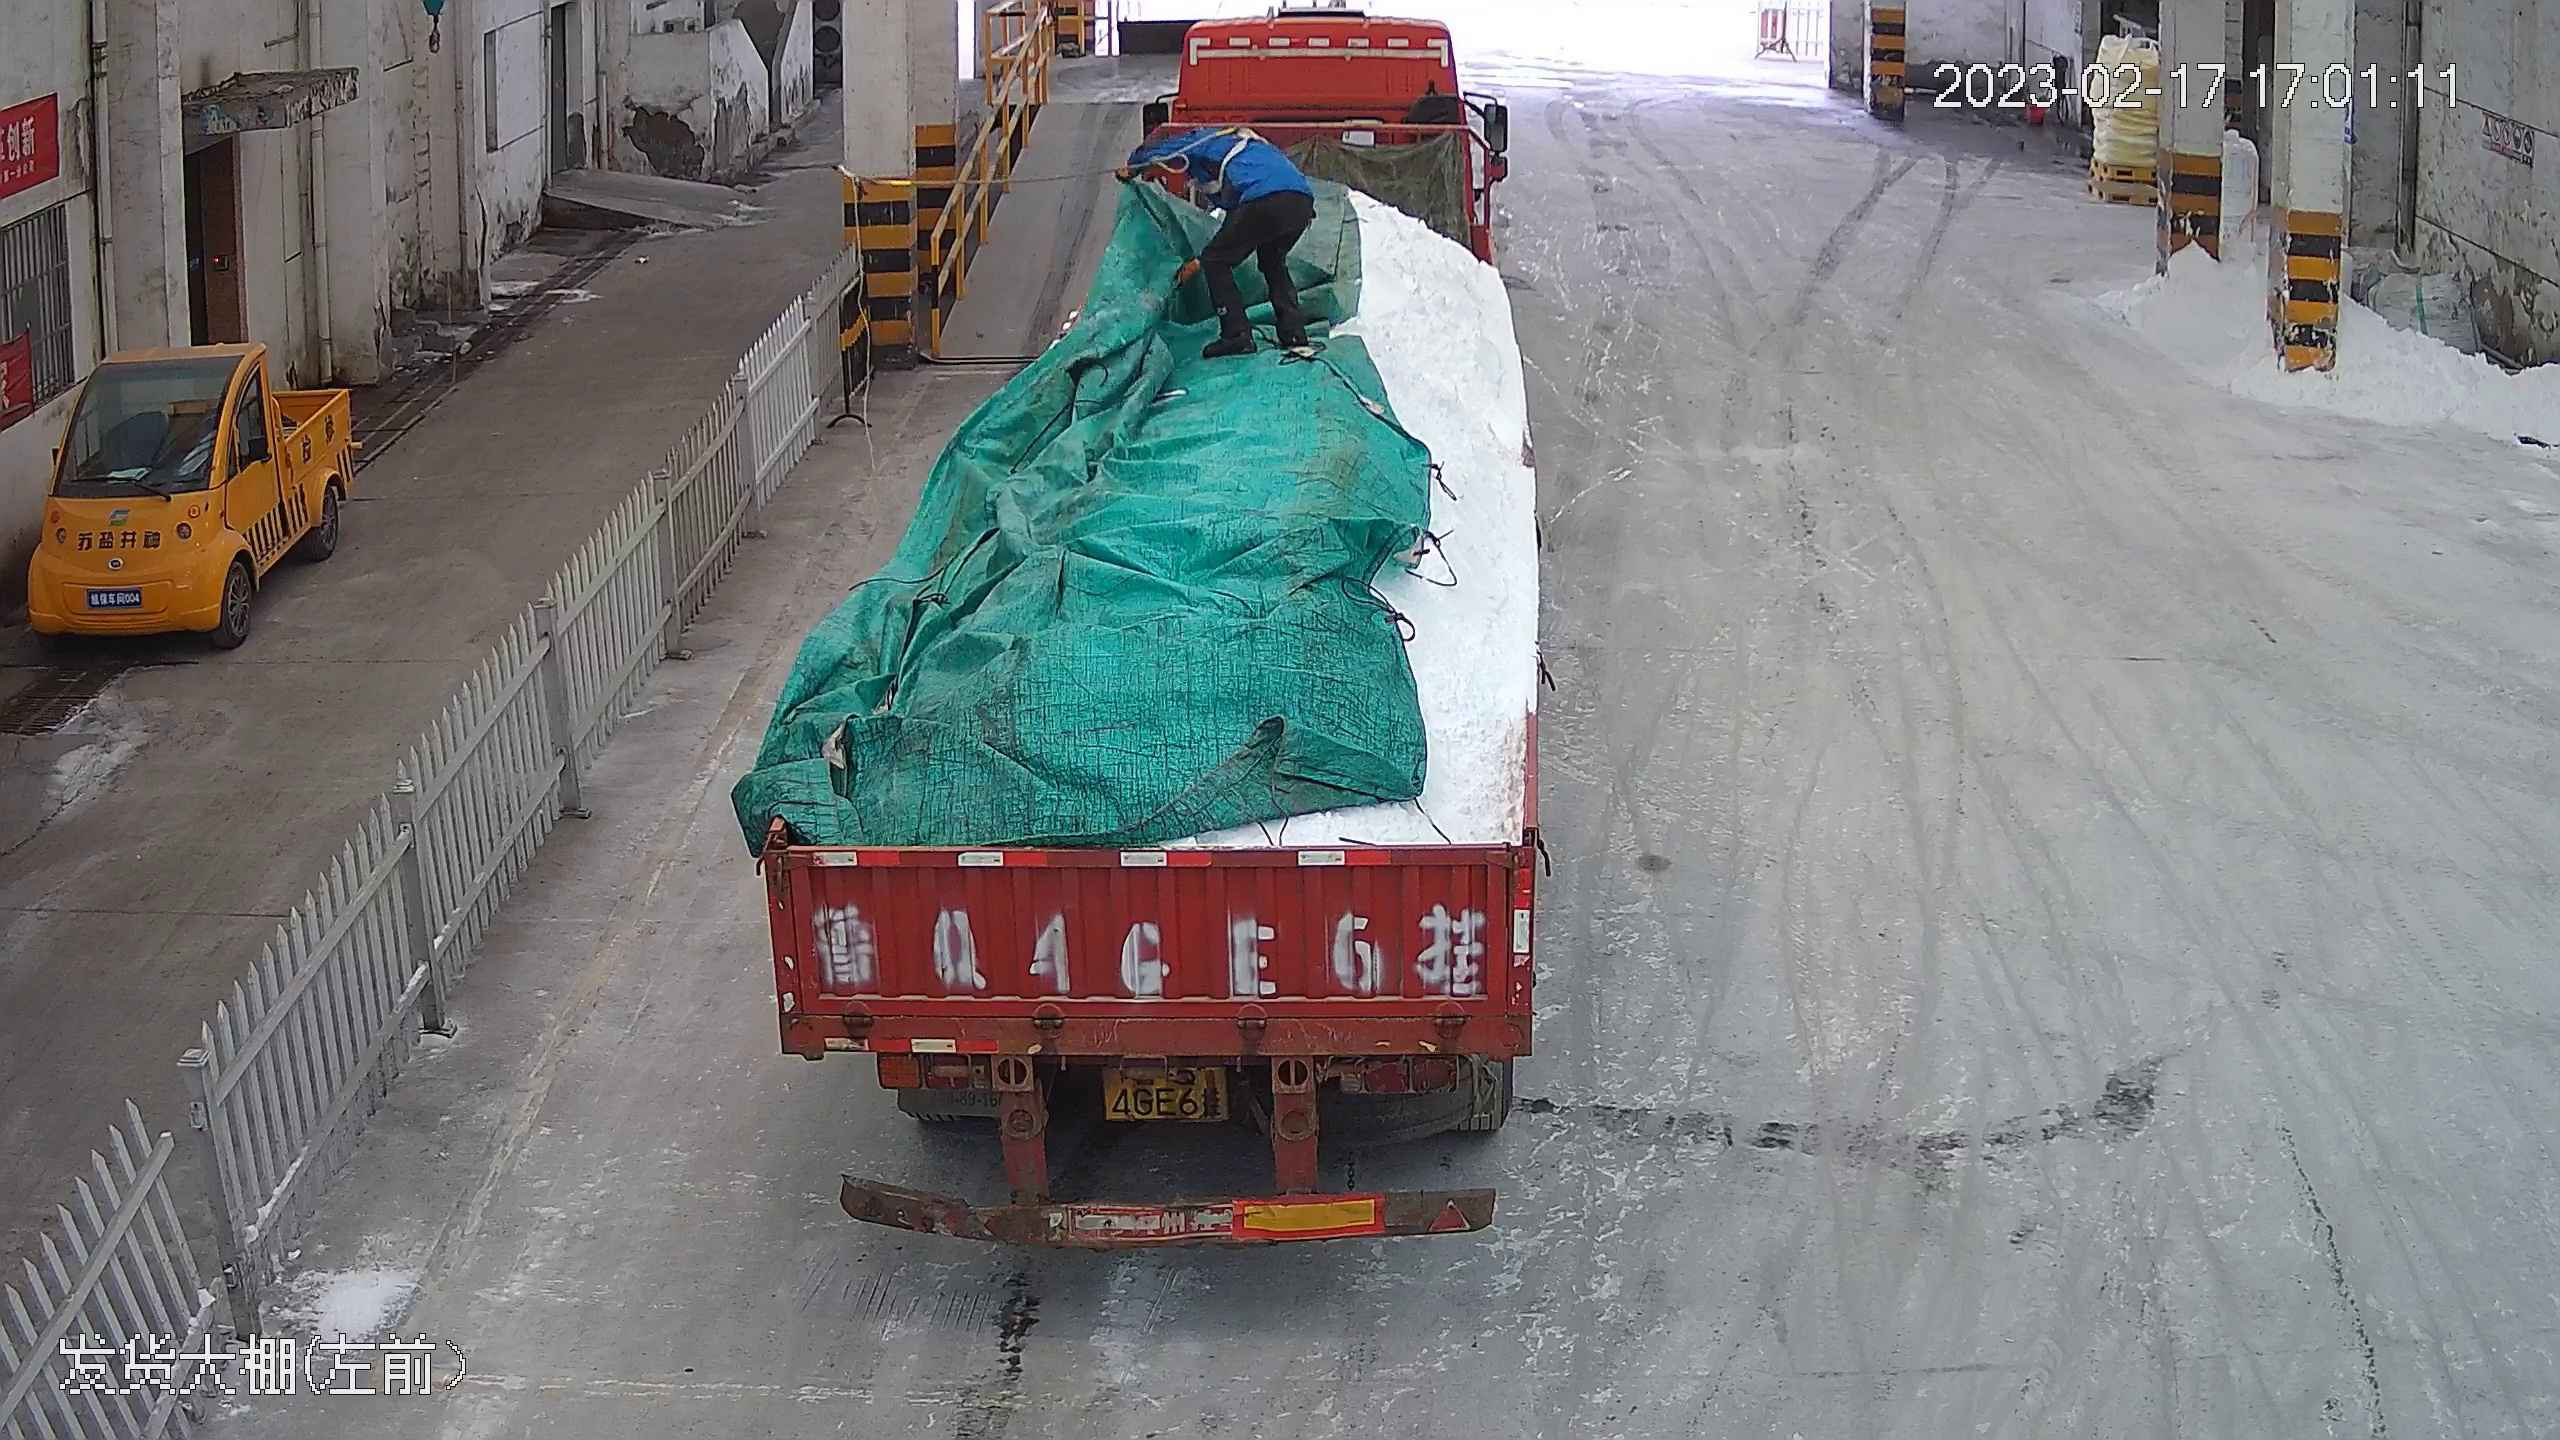belt: (1181, 132, 1269, 193)
people: (1114, 130, 1314, 360)
truck: (760, 13, 1567, 1271)
